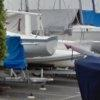Boat: (6, 6, 74, 72)
